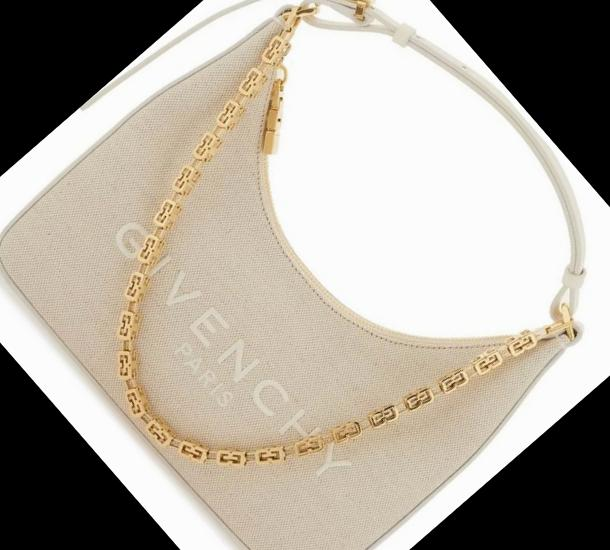GIVENCHY: (95, 200, 372, 506)
